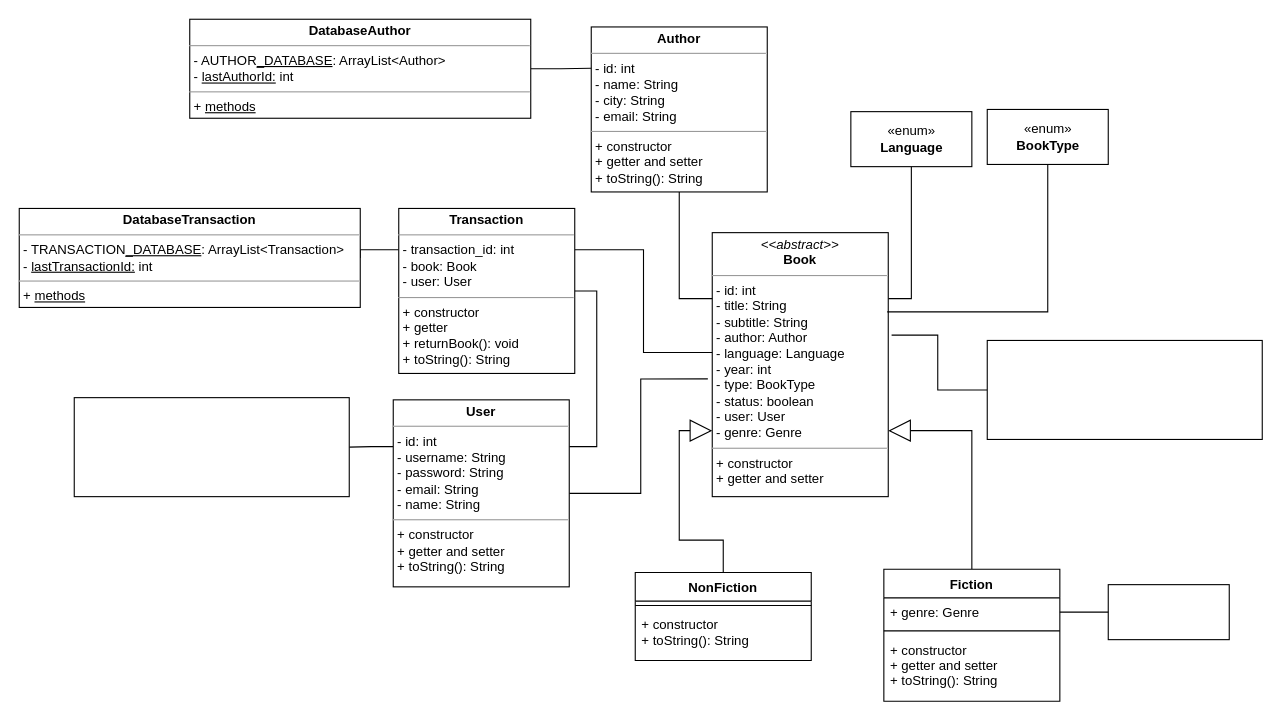
Image size: 1282x724. Some labels were removed from this diagram. The shapes that lost their labels are listed below. From the top down, each one's centre as x and y in pixels, then its label:
At pixel 1124 389: "DatabaseBook - BOOK _DATABASE : ArrayList<Book> - lastBookId: int + methods".
At pixel 211 447: "DatabaseUser - USER _DATABASE : ArrayList<User> - lastUserId: int + methods".
At pixel 1168 612: "«enum» Genre".
